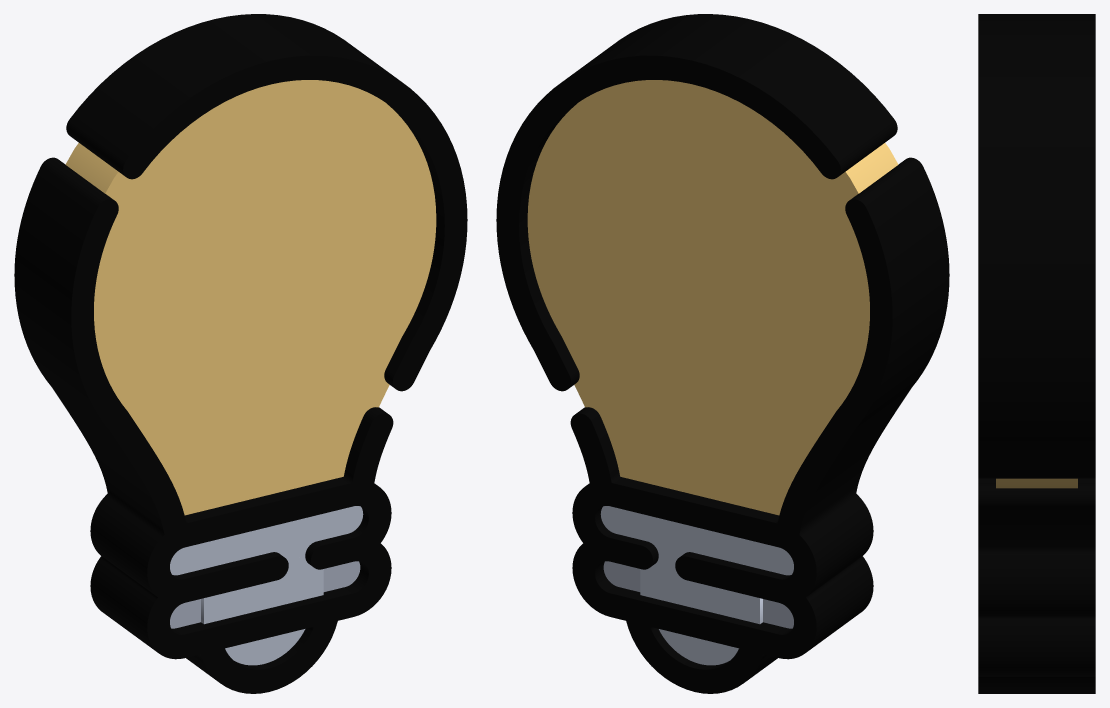
The model's file is Bulb.fbx.
3 views of the same model, side by side, from view 1: azimuth 30°, elevation 25°; view 2: azimuth 150°, elevation 25°; view 3: azimuth 270°, elevation 25° (orthographic). The views are drawn at different scales.
Visible parts, largest first — view 1: Curve.002, Curve.014, Curve.013, Curve.006, Curve, Curve.004; view 2: Curve.002, Curve.014, Curve.013, Curve.006, Curve, Curve.004; view 3: Curve.013, Curve.014, Curve.002.
Part boxes in pixels (x1,y1,x2,y2): Curve.002: [65, 80, 436, 515]; Curve.014: [14, 157, 393, 693]; Curve.013: [66, 14, 467, 391]; Curve.006: [170, 506, 363, 575]; Curve: [201, 556, 323, 665]; Curve.004: [170, 561, 360, 628]; Curve.002: [527, 80, 898, 515]; Curve.014: [570, 157, 949, 693]; Curve.013: [496, 14, 897, 391]; Curve.006: [600, 506, 793, 575]; Curve: [640, 556, 762, 665]; Curve.004: [603, 561, 793, 628]; Curve.013: [978, 14, 1095, 478]; Curve.014: [978, 478, 1095, 693]; Curve.002: [996, 478, 1077, 488].
Bounding box in the file's own units: 80.61 × 123 × 20.
